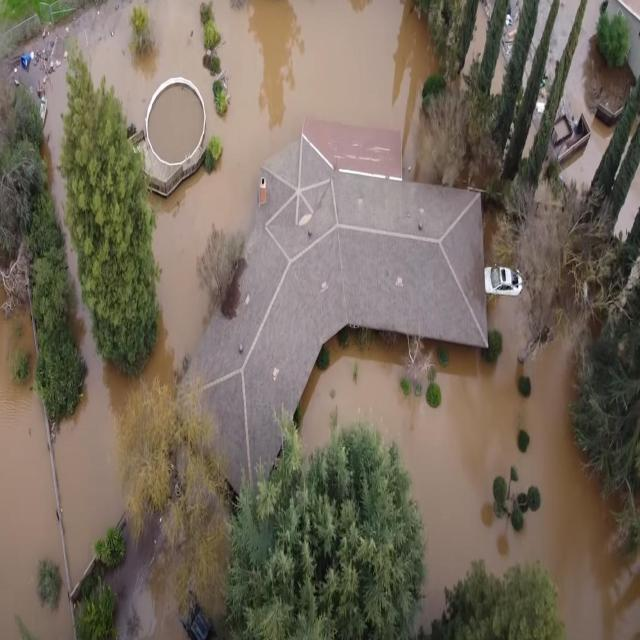flood: (9, 0, 439, 382), (301, 298, 640, 637), (52, 230, 139, 583), (0, 308, 71, 639), (563, 0, 615, 184), (149, 85, 203, 155), (548, 0, 580, 80), (618, 169, 640, 230), (532, 0, 551, 56)
house: (172, 117, 491, 519)
